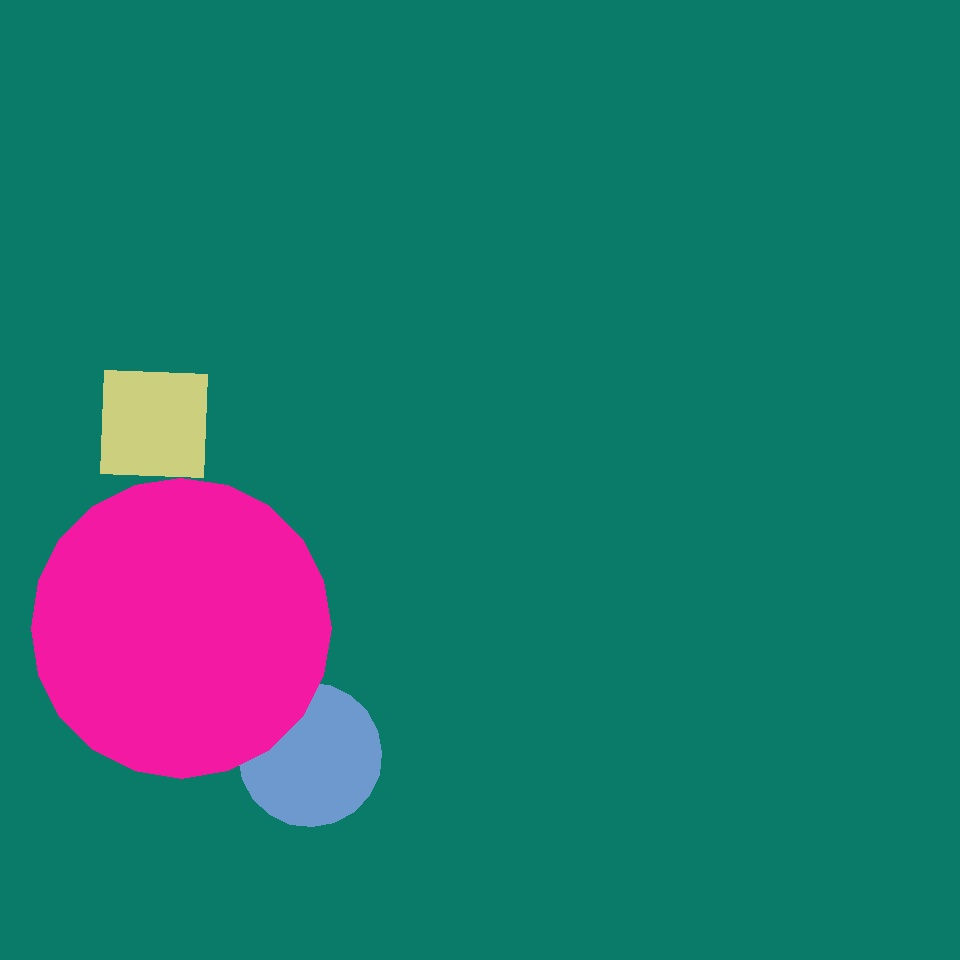circle: (560, 180, 865, 507)
square: (387, 358, 658, 629), (715, 260, 940, 485), (101, 370, 208, 478)
triangle: (421, 368, 750, 696), (31, 478, 331, 778), (565, 289, 844, 567), (239, 684, 382, 826), (216, 68, 325, 178)
